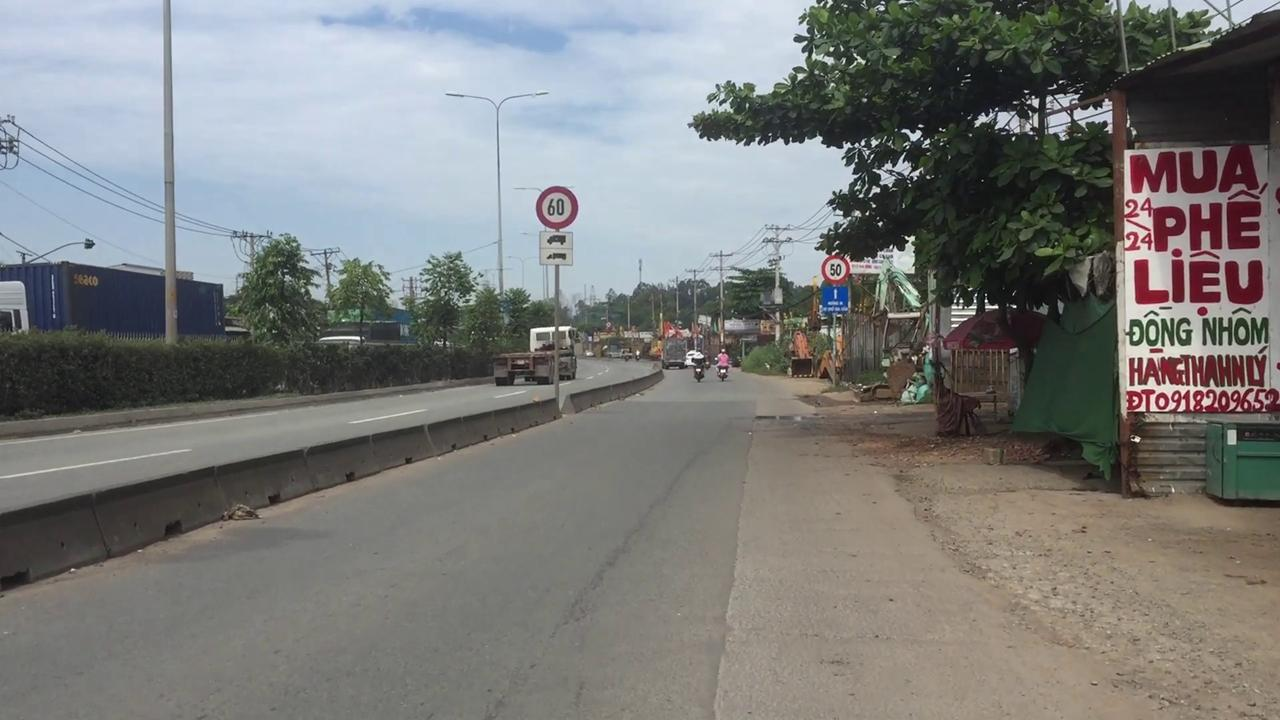P.137: (820, 252, 852, 286)
P.245a: (532, 178, 582, 230)
